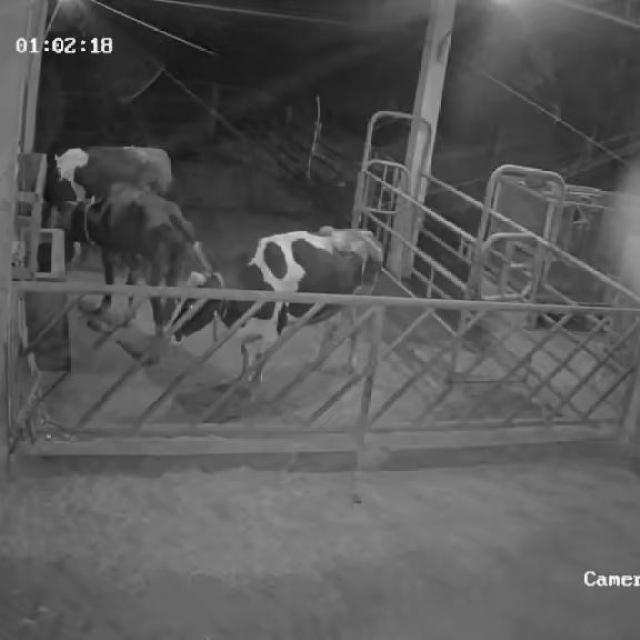standing: (160, 225, 388, 386), (49, 182, 208, 332)
